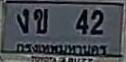2: (89, 9, 102, 34)
4: (75, 8, 87, 33)
A02: (33, 8, 47, 33)
A07: (16, 8, 28, 32)
